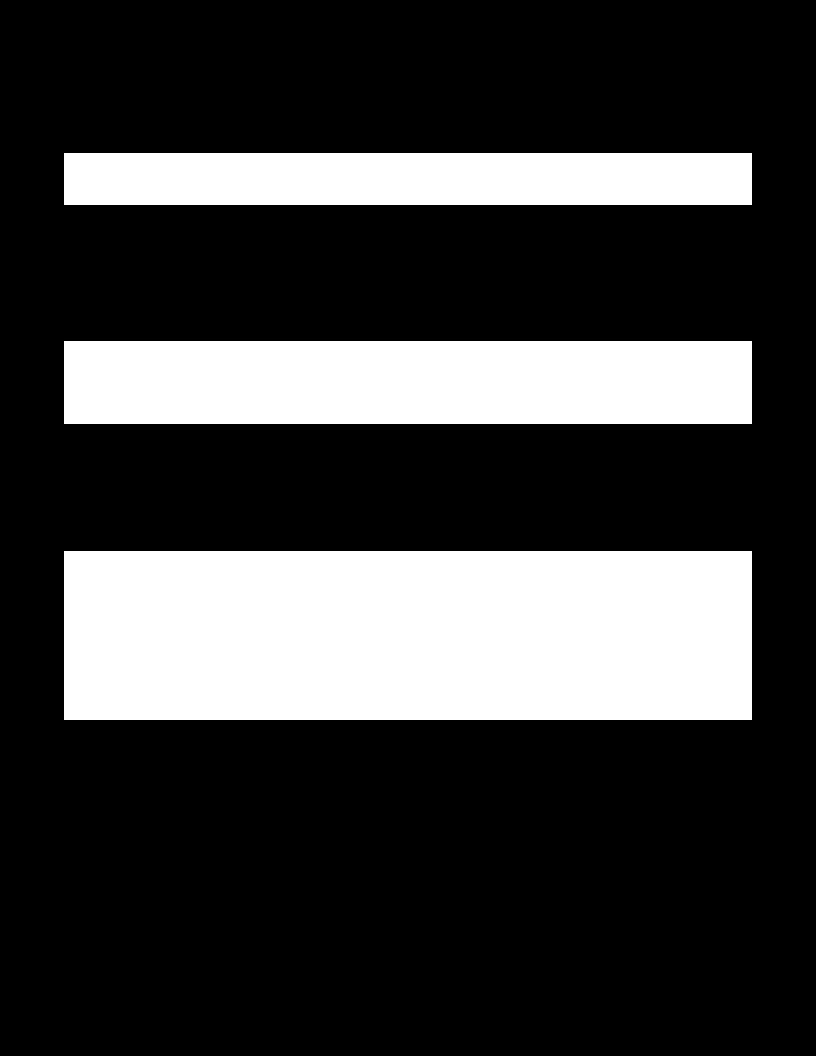table: (64, 551, 751, 719), (64, 341, 751, 423), (64, 153, 751, 204)
